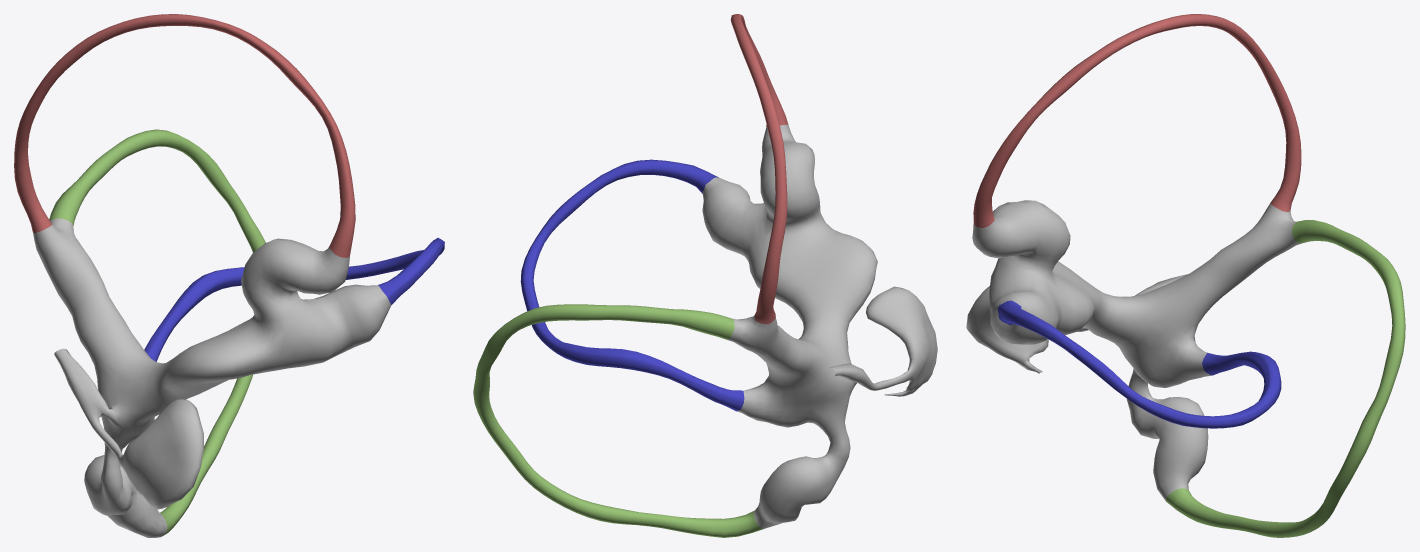
Rendered from endolymph_left.glb.
3 renders of one model, left to right at view 1: azimuth 30°, elevation 25°; view 2: azimuth 150°, elevation 25°; view 3: azimuth 270°, elevation 25°, orthographic. The views are drawn at different scales.
Parts seen in each view (by area): view 1: SCC_endolymph; view 2: SCC_endolymph; view 3: SCC_endolymph.
Part boxes in pixels (x1,y1,x2,y2): SCC_endolymph: (14, 14, 444, 537); SCC_endolymph: (473, 14, 937, 537); SCC_endolymph: (966, 14, 1405, 537).
Size of the model in its own units: 2.81 by 3.89 by 3.09.
